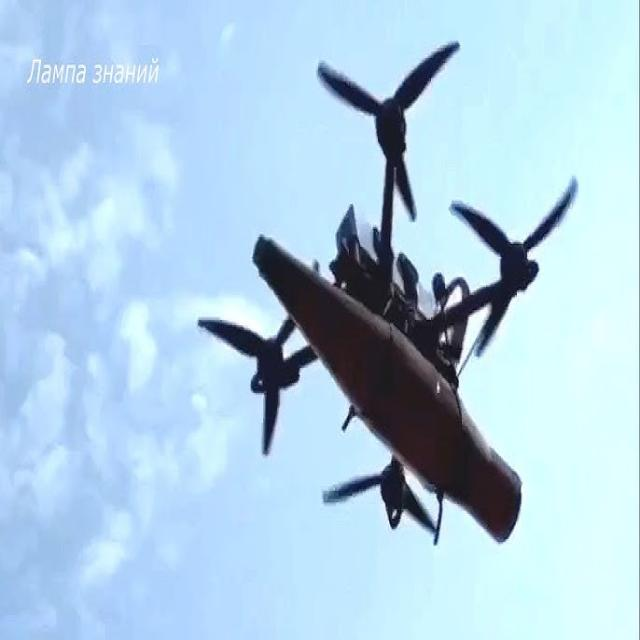drone: (196, 30, 583, 549)
